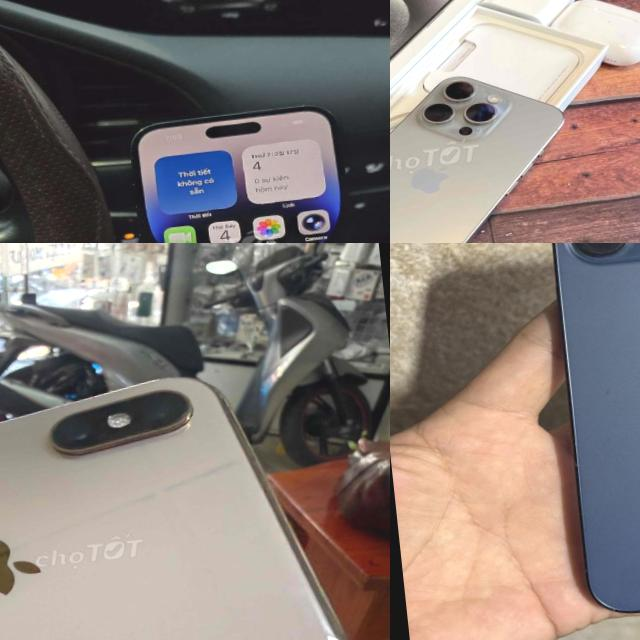gen_12_13: (528, 243, 640, 624)
gen_14: (118, 88, 387, 243)
gen_15: (390, 64, 589, 243)
gen_x_xs: (0, 355, 362, 640)
